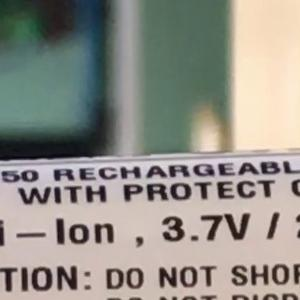3.7V: (152, 203, 255, 252)
